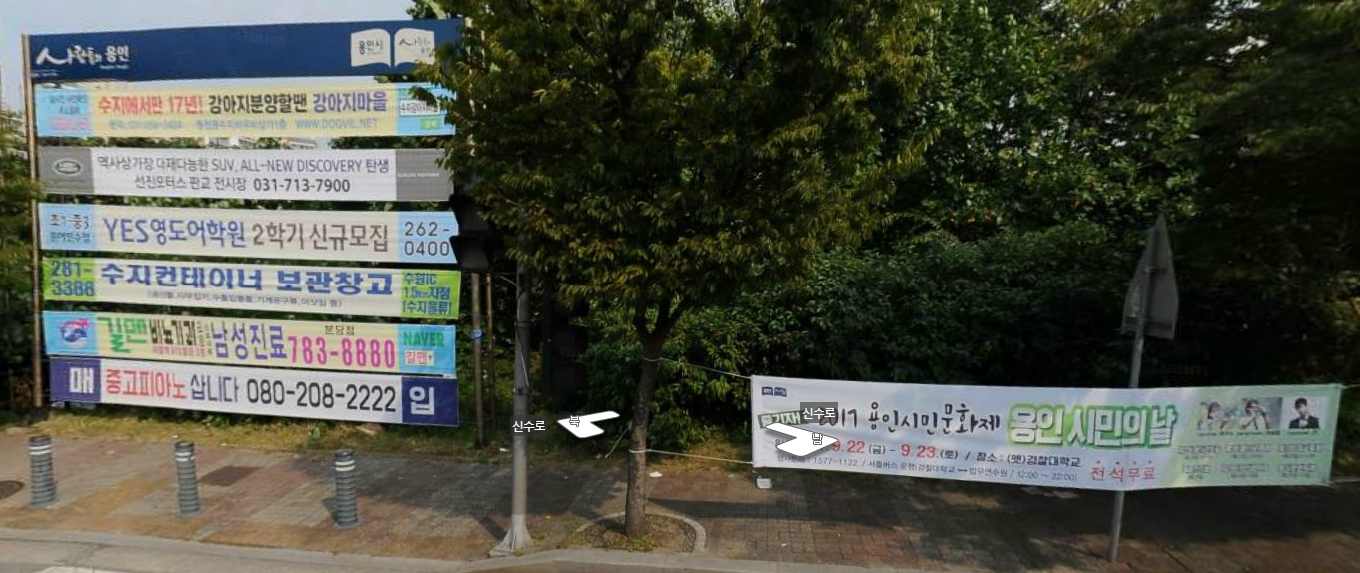banner: (737, 365, 1342, 505), (32, 197, 497, 272), (31, 253, 484, 329), (27, 300, 473, 377), (36, 358, 501, 428), (30, 79, 477, 145), (16, 143, 476, 206)
